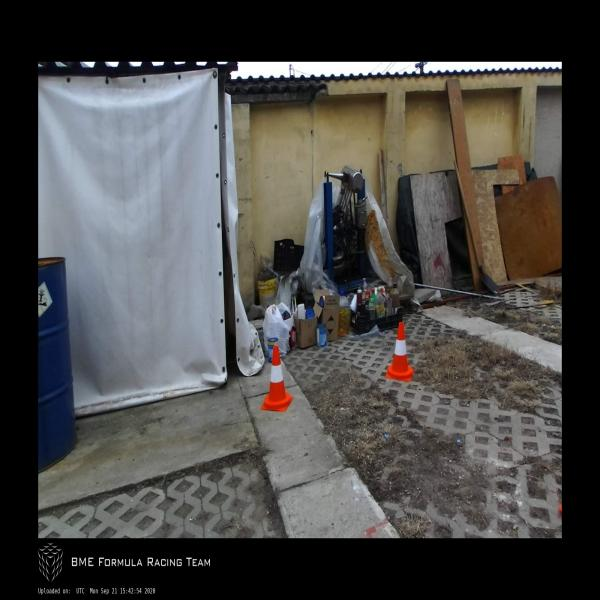orange_cone: (260, 346, 294, 412), (385, 322, 414, 382)
